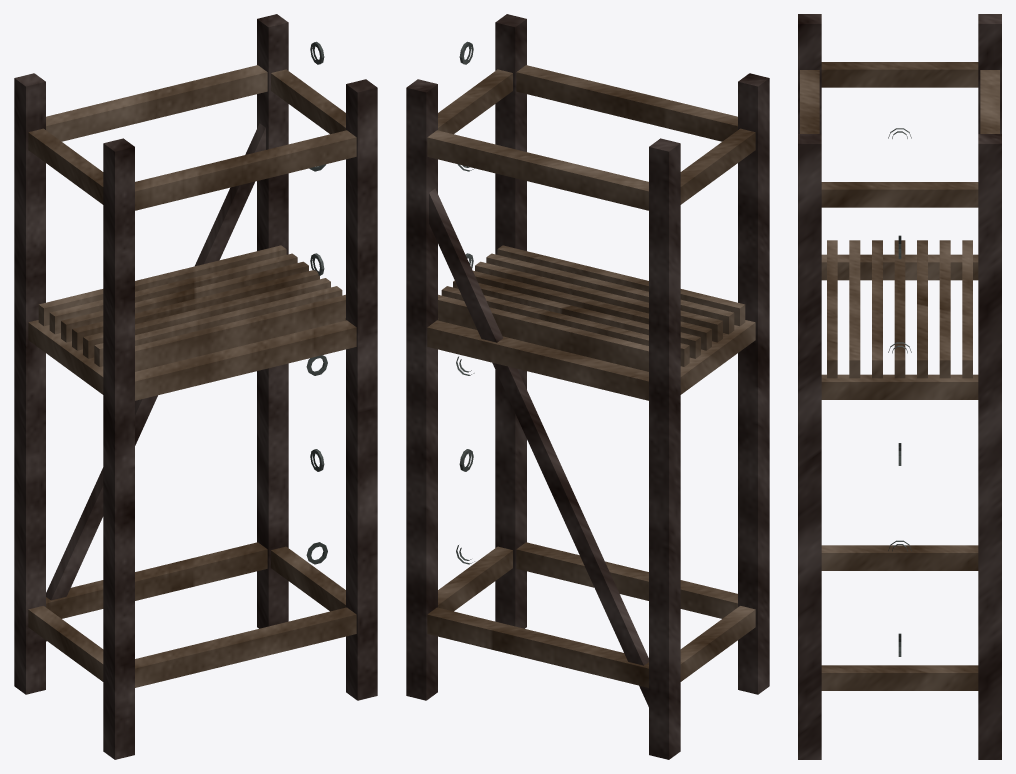
The model's file is 0432_scaffolding_07.glb.
3 renders of one model, left to right at view 1: azimuth 30°, elevation 25°; view 2: azimuth 150°, elevation 25°; view 3: azimuth 270°, elevation 25°, orthographic.
Visible parts, largest first — view 1: wood_dark, wood, iron; view 2: wood_dark, wood, iron; view 3: wood, wood_dark, iron.
Part boxes in pixels (box(x1,y1,x2,y2)): wood_dark: box(14, 14, 377, 759); wood: box(28, 65, 356, 687); iron: box(306, 41, 327, 564); wood_dark: box(406, 14, 769, 759); wood: box(427, 65, 755, 687); iron: box(456, 41, 474, 564); wood: box(800, 62, 999, 690); wood_dark: box(798, 14, 1001, 759); iron: box(888, 128, 911, 656).
Size of the model in its own units: 1.7 by 3.83 by 1.13.
Materials: 3 (3 with a texture image).
